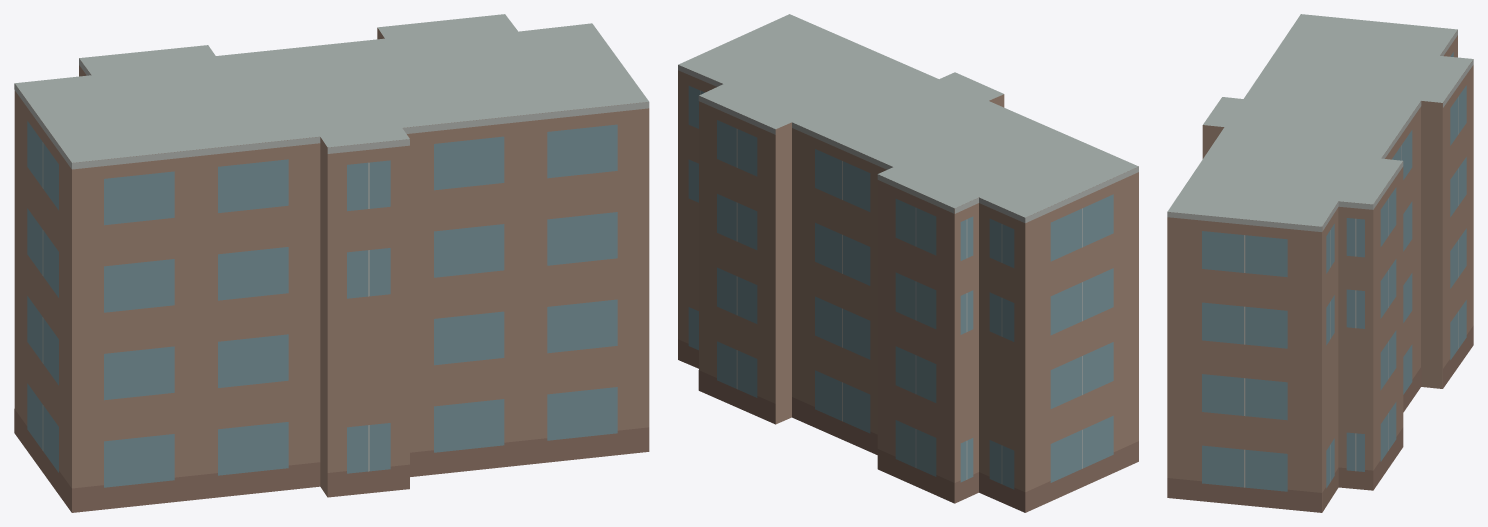
The model's file is survey-upis-32973169.glb.
3 renders of one model, left to right at view 1: azimuth 30°, elevation 25°; view 2: azimuth 150°, elevation 25°; view 3: azimuth 270°, elevation 25°, orthographic. The views are drawn at different scales.
Visible parts, largest first — view 1: survey-upis-32973169.tmp; view 2: survey-upis-32973169.tmp; view 3: survey-upis-32973169.tmp.
Boxes of the visible parts, x1=… form: survey-upis-32973169.tmp: x1=14, y1=14, x2=649, y2=512; survey-upis-32973169.tmp: x1=678, y1=14, x2=1138, y2=512; survey-upis-32973169.tmp: x1=1167, y1=14, x2=1473, y2=512.
Bounding box in the file's own units: 20.58 × 12.9 × 12.52.
